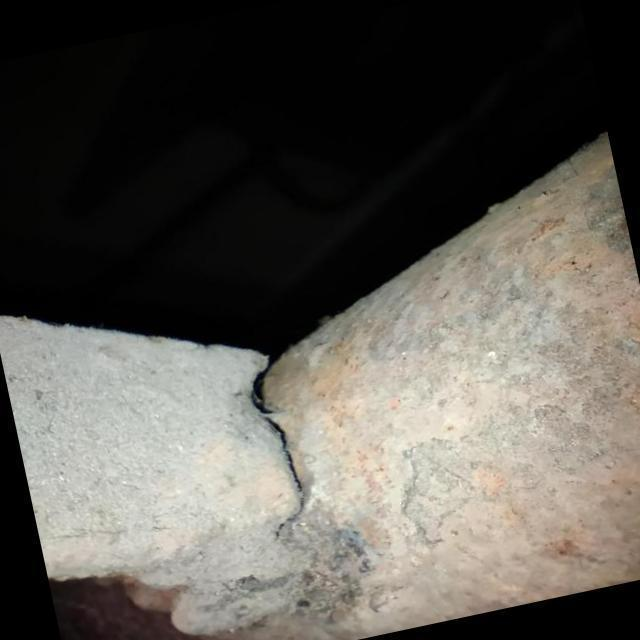defect: (246, 352, 307, 540)
